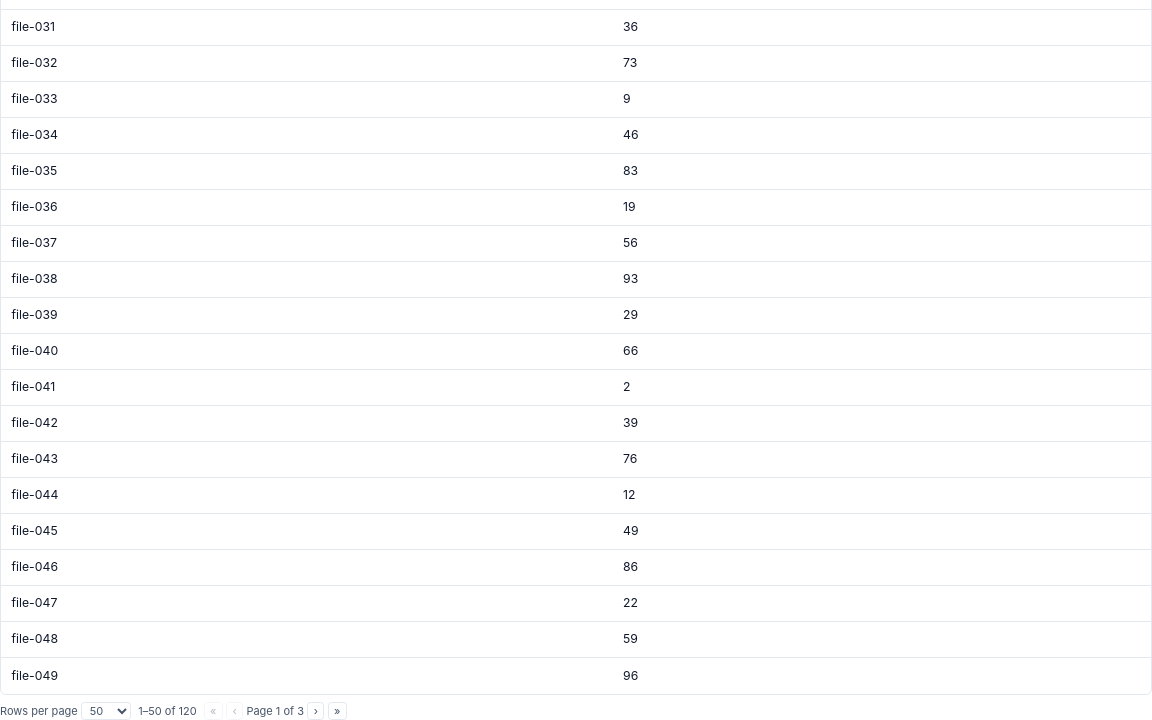
DataGrid paging and sorting › changes the page size and virtualizes All
(page scrolled)
Select "25" in the dropdown with test id "grid-page-size": (106, 711) [81, 702, 131, 719]
(page scrolled)
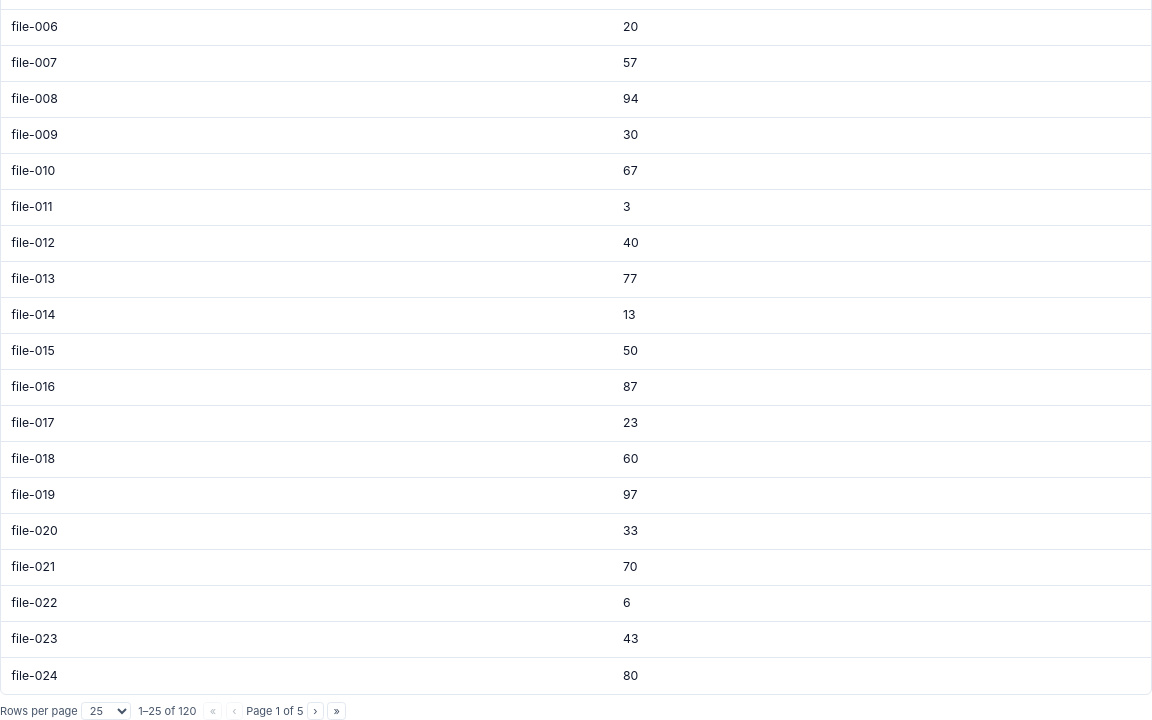
Select "All" in the dropdown with test id "grid-page-size": (106, 711) [81, 702, 131, 719]
(page scrolled)
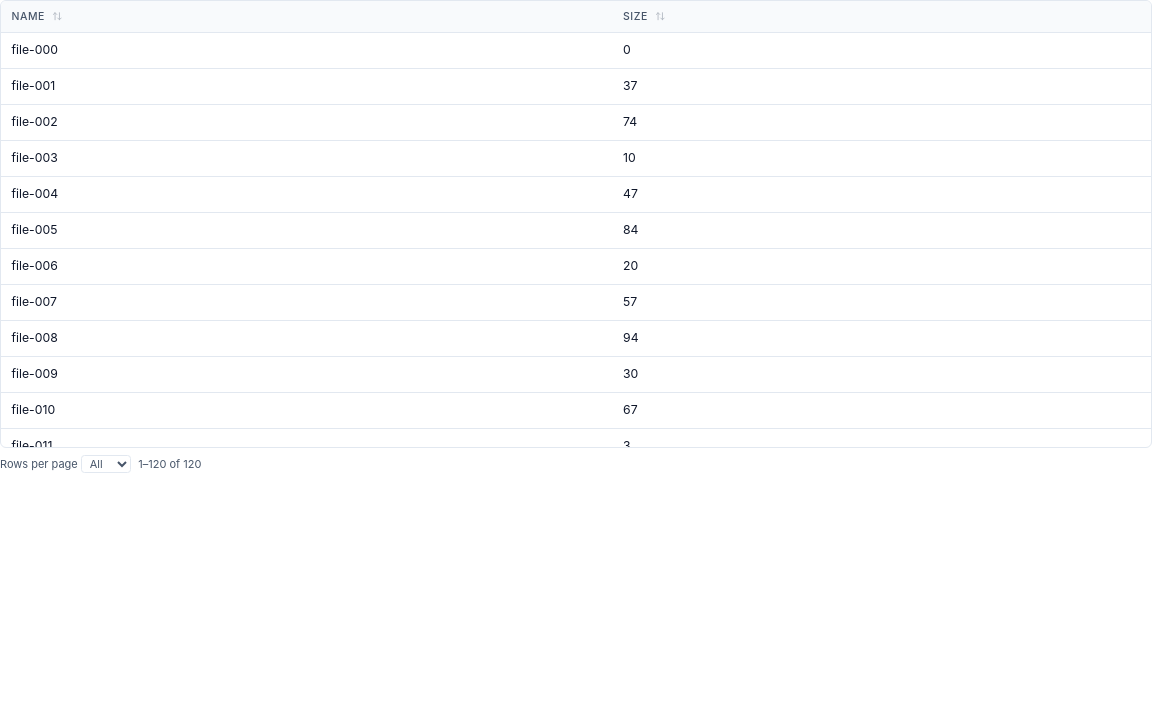
expect the text with test id "grid-range" reads "1–120 of 120": met, box [138, 456, 201, 472]
